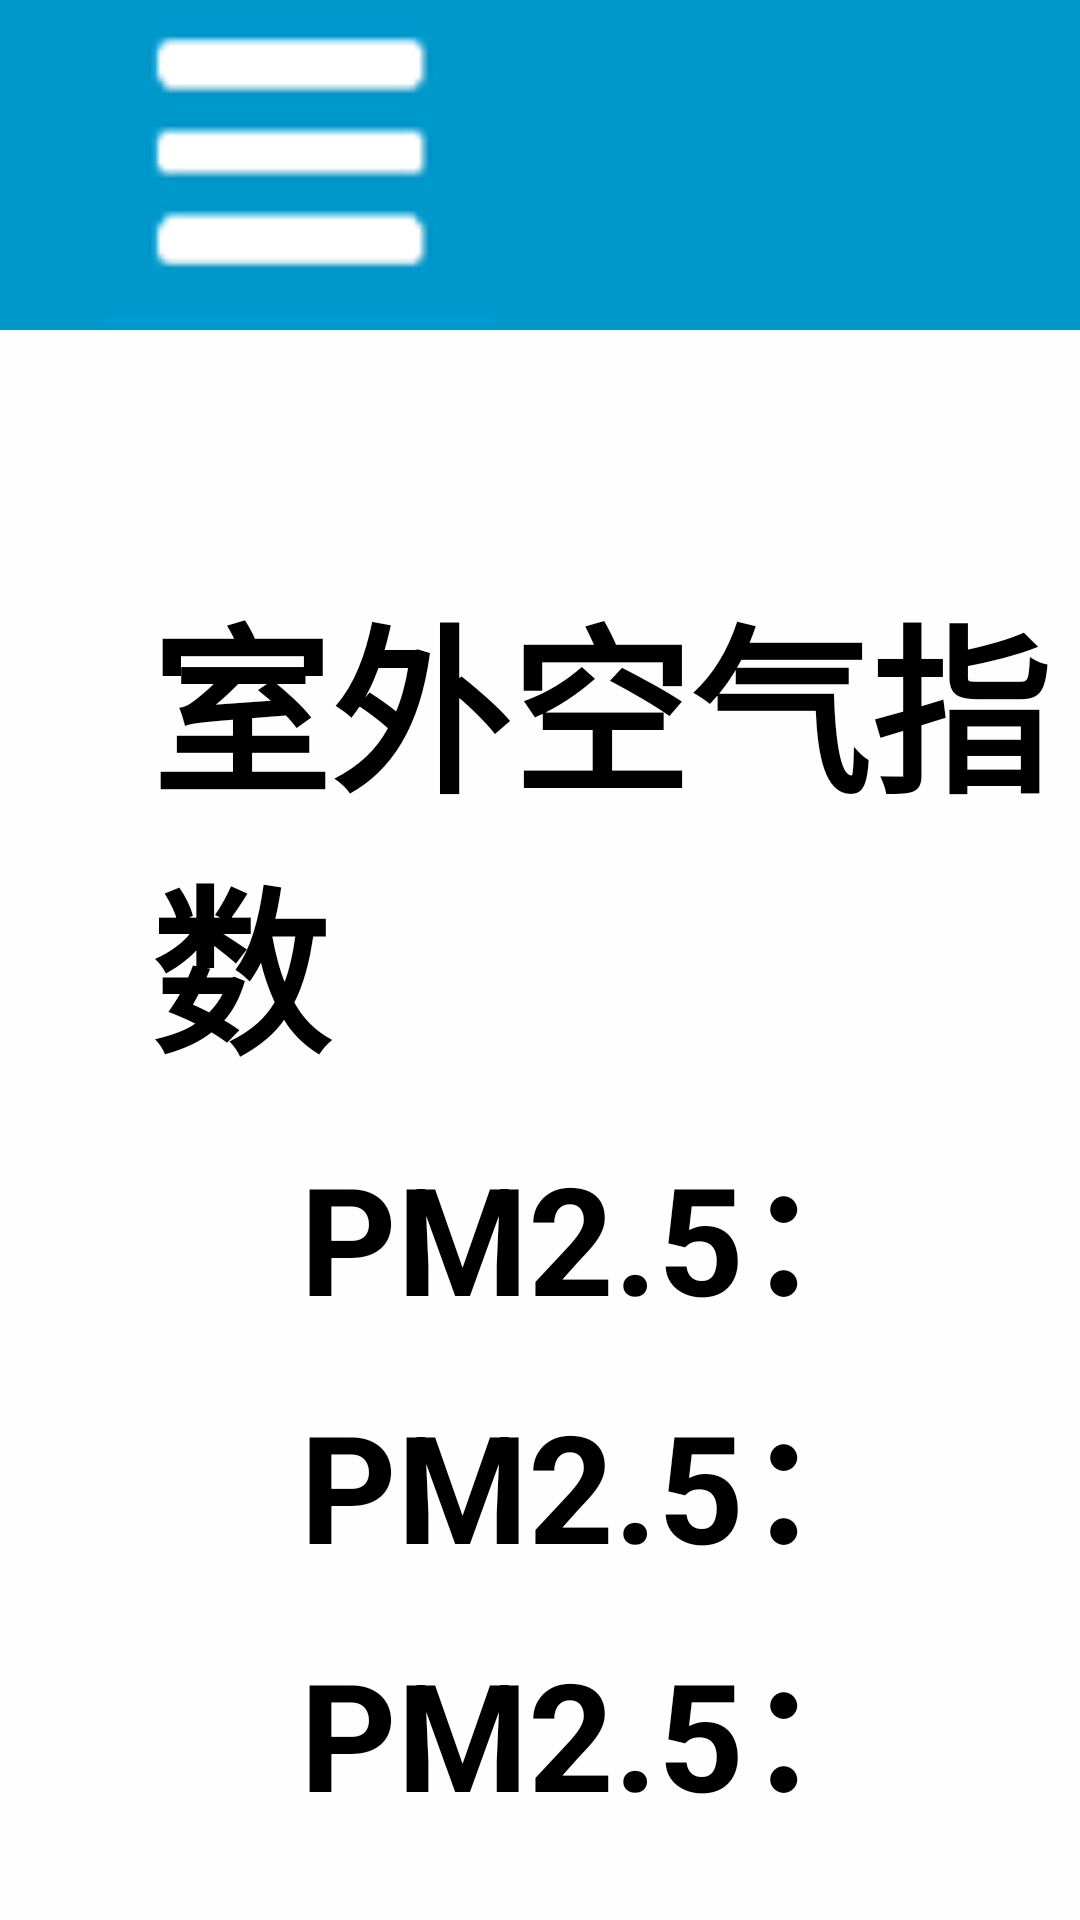

Point at icon controls on the screen. Image size 1080px×1920px, points as [x,y].
caidan: [291,152]
